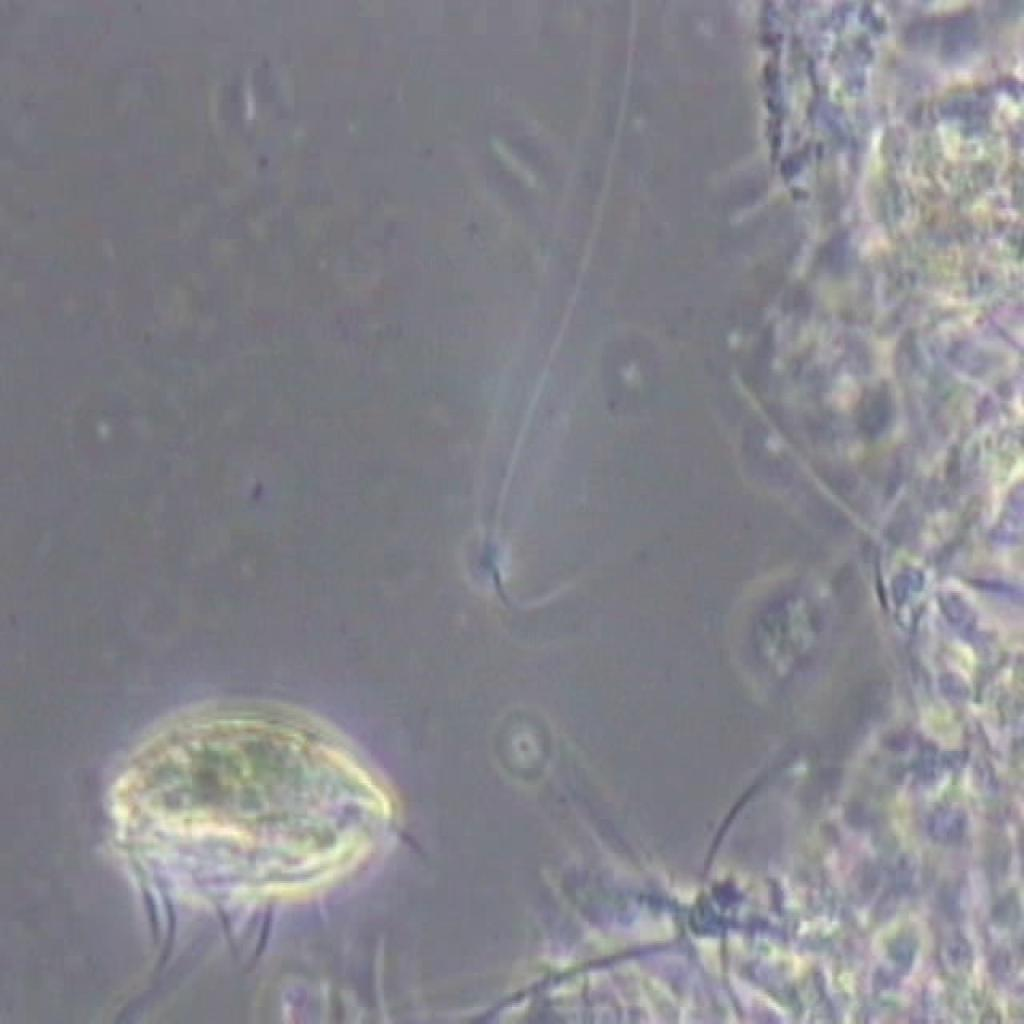Euplotes: (66, 678, 435, 975)
